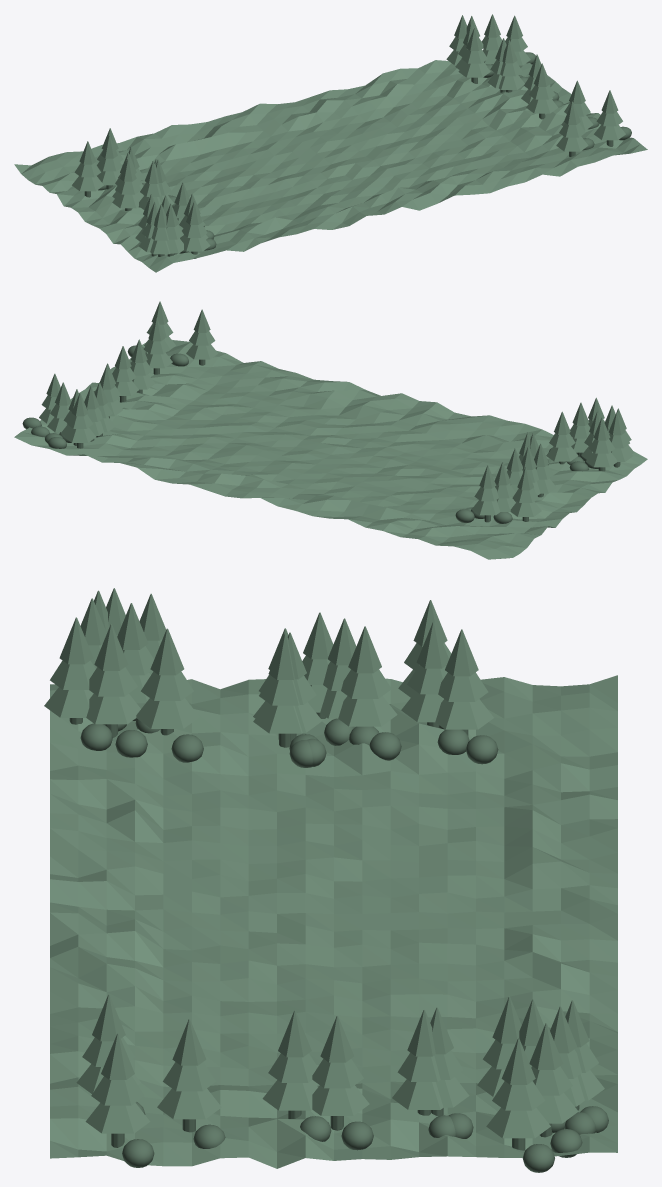
File: terrain_forest.glb
The picture shows the model from 3 angles, top to bottom: view 1: azimuth 30°, elevation 25°; view 2: azimuth 150°, elevation 25°; view 3: azimuth 270°, elevation 25°; orthographic projection. The views are drawn at different scales.
Parts seen in each view (by area): view 1: terrain_forest_Mesh; view 2: terrain_forest_Mesh; view 3: terrain_forest_Mesh.
Part boxes in pixels (<box>): terrain_forest_Mesh: <box>14,14,647,272</box>; terrain_forest_Mesh: <box>14,301,647,559</box>; terrain_forest_Mesh: <box>44,588,617,1172</box>.
Bounding box in the file's own units: 28.58 × 3.25 × 14.14.
